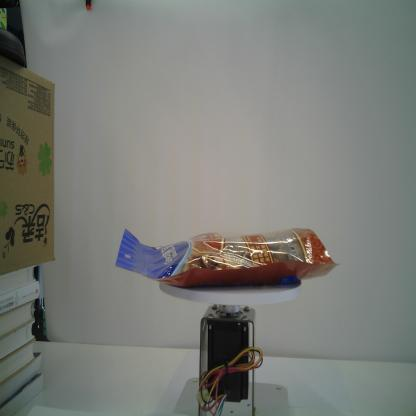Dried Food: (115, 228, 341, 287)
